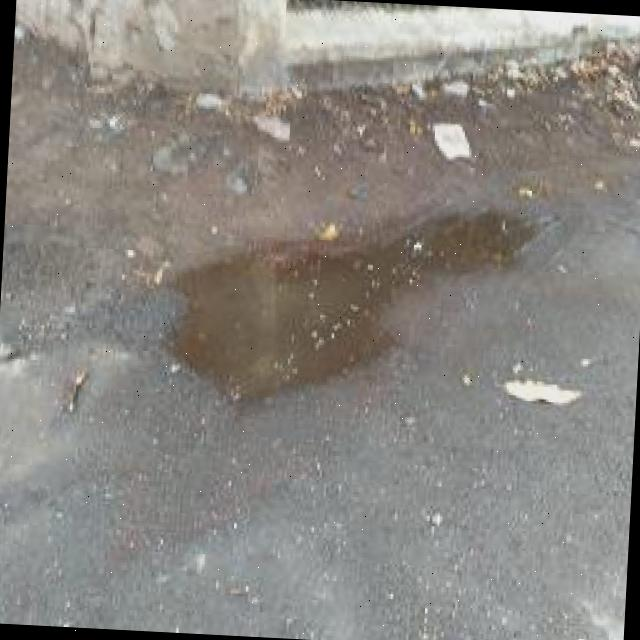stagnation: (151, 195, 539, 416)
